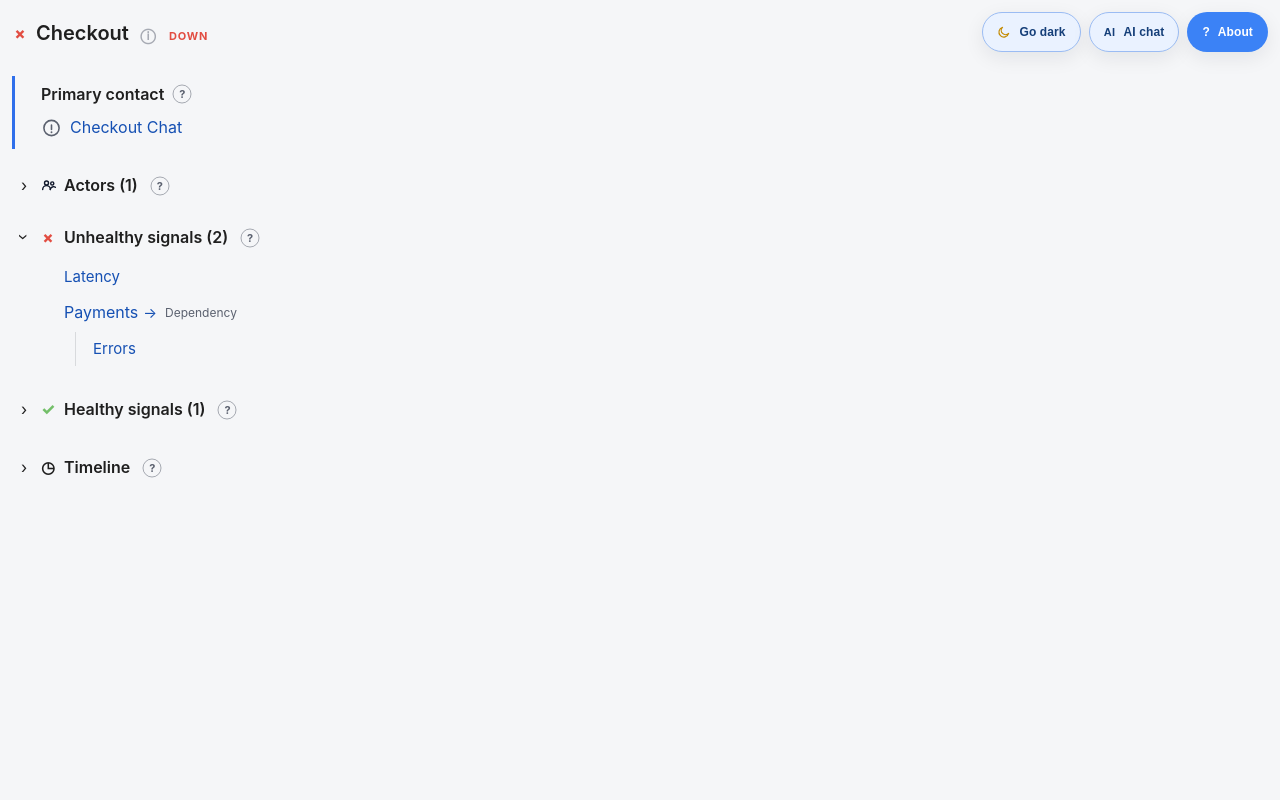
Test: DetailsPanel contextual help › does not toggle a disclosure when clicking adjacent help
Click the button named "About Actors" at [160, 186], box [146,172,174,200]
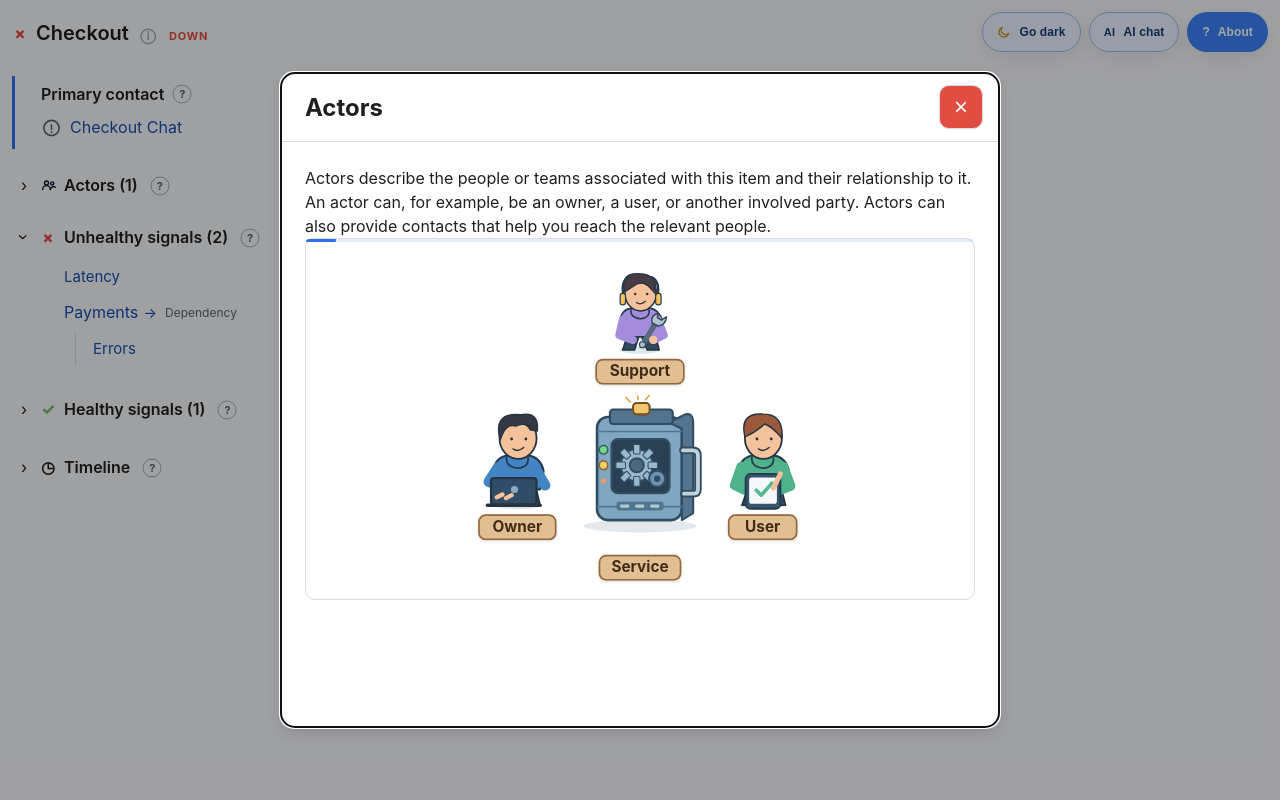
expect the dialog named "About Actors" is shown: met, box [280,72,1000,728]
